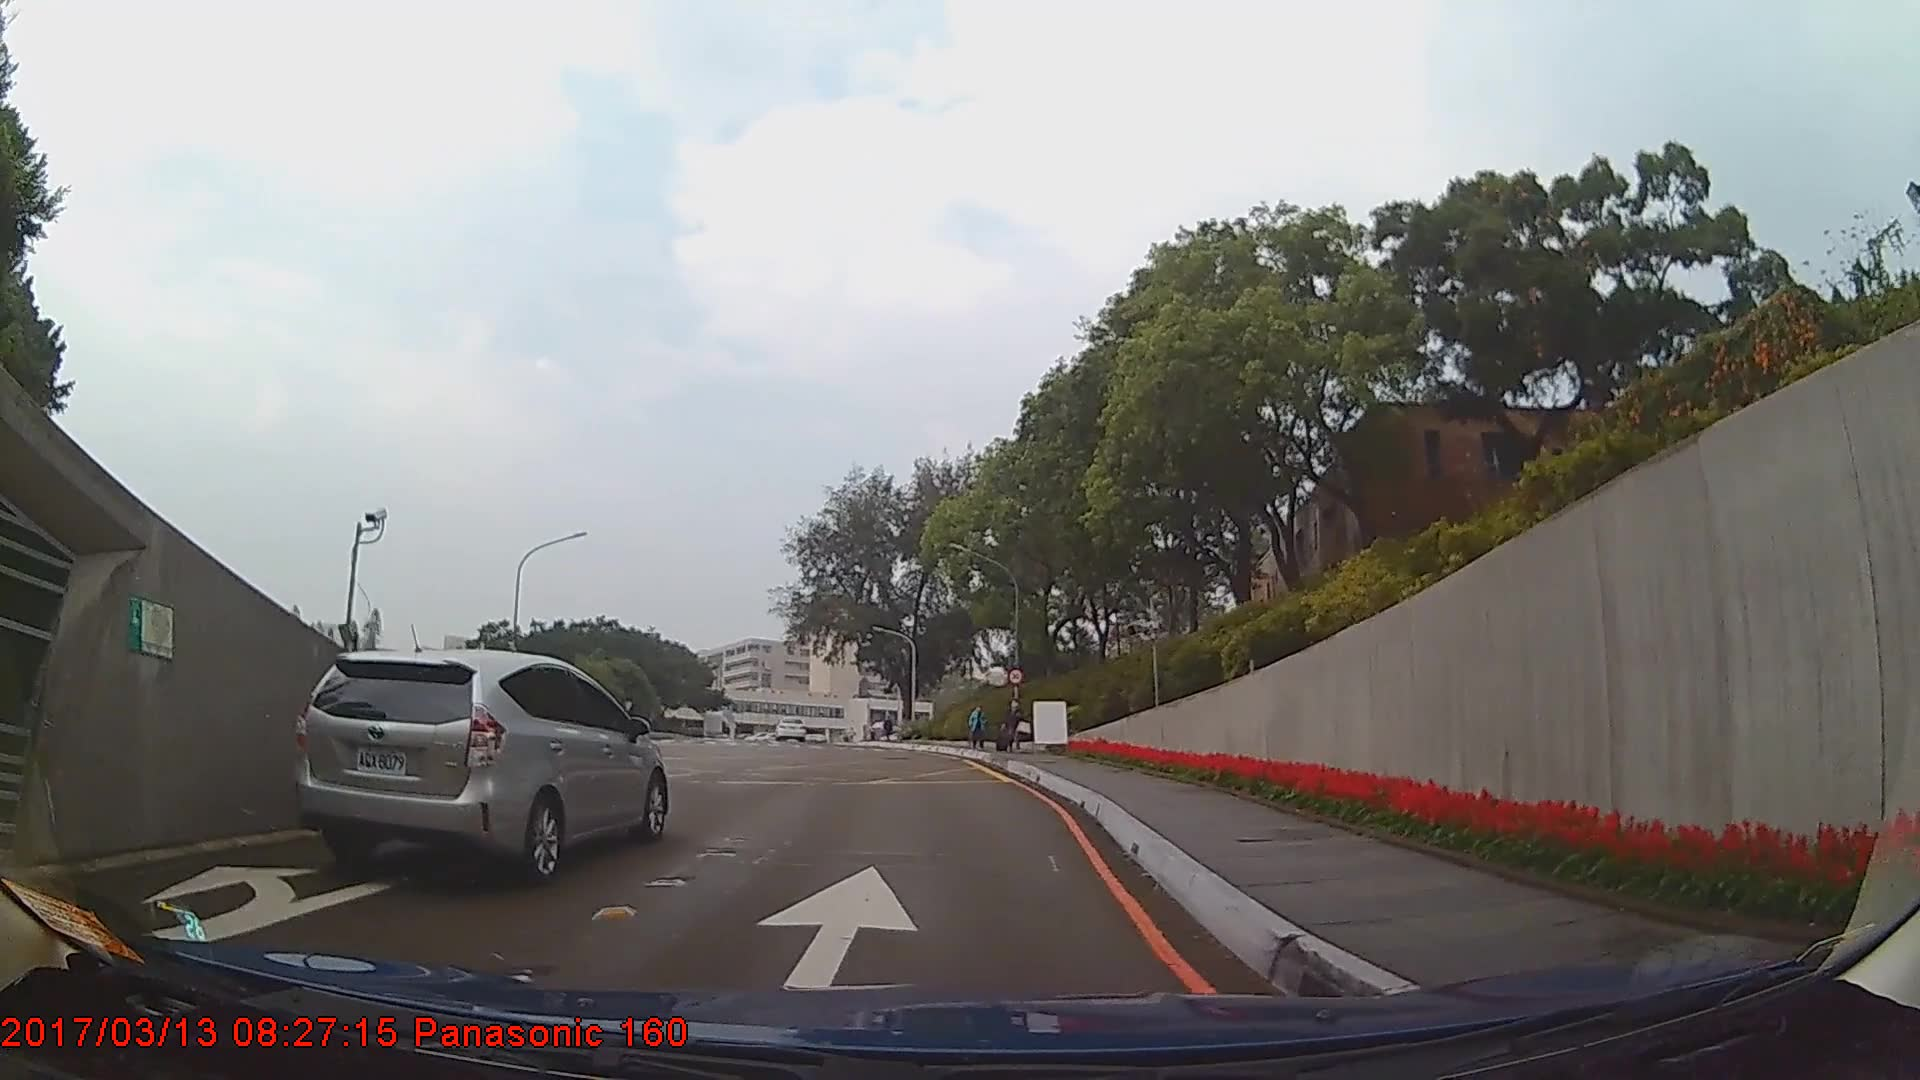pedestrian: (997, 696, 1034, 752), (966, 705, 987, 752)
vehicle: (287, 646, 666, 889), (773, 714, 807, 741)
